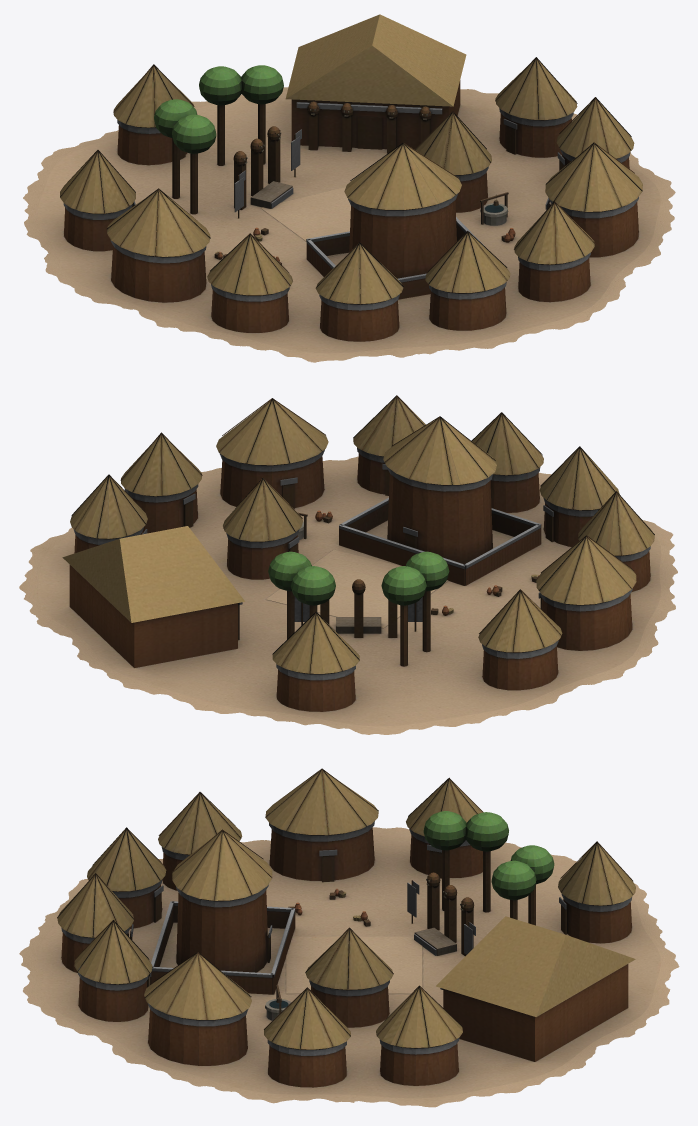
The model's file is bronze-town-medium-a-westafrica.glb.
3 views of the same model, one above another, from view 1: azimuth 30°, elevation 25°; view 2: azimuth 150°, elevation 25°; view 3: azimuth 270°, elevation 25° (orthographic).
Parts seen in each view (by area): view 1: LOD0; view 2: LOD0; view 3: LOD0.
Part boxes in pixels (x1,y1,x2,y2): LOD0: (23,14,675,362); LOD0: (19,395,677,734); LOD0: (19,768,679,1107).
Size of what is drawn, in the model's own units: 5.99 by 1.28 by 5.92.
Materials: 3 (3 with a texture image).
